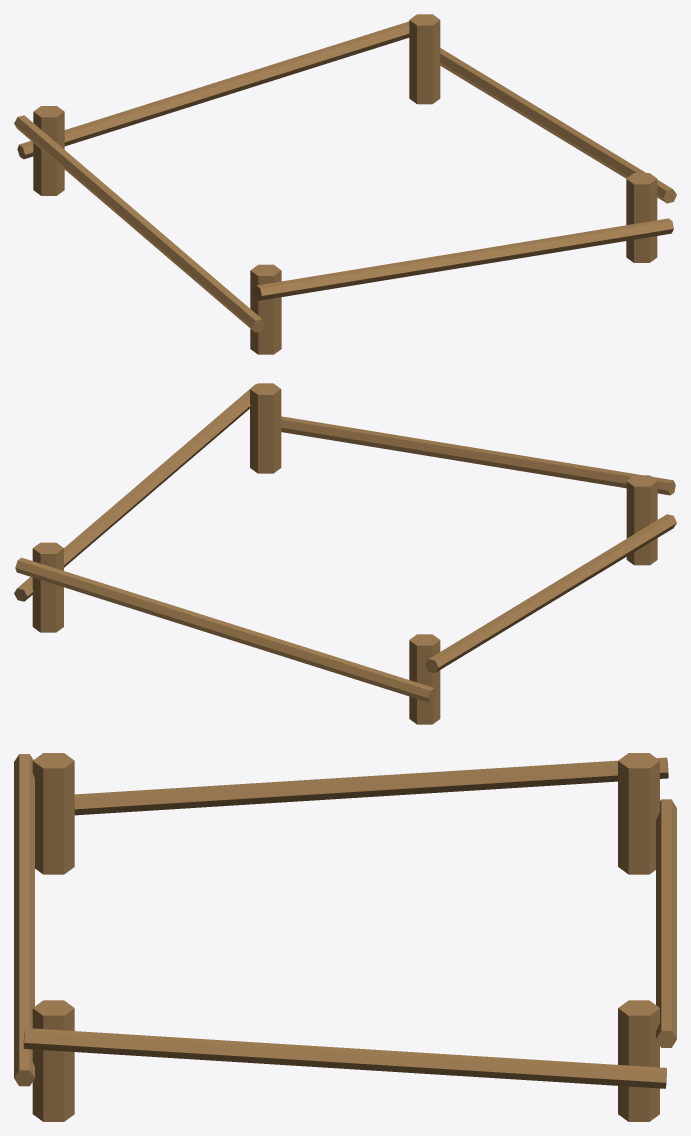
File: chickenPen.gltf
3 views of the same model, one above another, from view 1: azimuth 30°, elevation 25°; view 2: azimuth 150°, elevation 25°; view 3: azimuth 270°, elevation 25° (orthographic). The views are drawn at different scales.
Parts seen in each view (by area): view 1: Cylinder.004, Cylinder.006, Cylinder.007, Cylinder.005, Cylinder.003, Cylinder.002, Cylinder, Cylinder.001; view 2: Cylinder.006, Cylinder.004, Cylinder.007, Cylinder.005, Cylinder.002, Cylinder.003, Cylinder, Cylinder.001; view 3: Cylinder.005, Cylinder.007, Cylinder.004, Cylinder.006, Cylinder, Cylinder.001, Cylinder.002, Cylinder.003.
Part boxes in pixels (x1=…): Cylinder.004: x1=254, y1=218, x2=673, y2=300; Cylinder.006: x1=17, y1=21, x2=409, y2=159; Cylinder.007: x1=14, y1=115, x2=265, y2=332; Cylinder.005: x1=440, y1=48, x2=676, y2=203; Cylinder.003: x1=409, y1=14, x2=440, y2=104; Cylinder.002: x1=626, y1=173, x2=657, y2=262; Cylinder: x1=250, y1=264, x2=281, y2=354; Cylinder.001: x1=33, y1=106, x2=64, y2=195; Cylinder.006: x1=15, y1=557, x2=435, y2=702; Cylinder.004: x1=281, y1=416, x2=675, y2=495; Cylinder.007: x1=425, y1=514, x2=676, y2=673; Cylinder.005: x1=14, y1=384, x2=256, y2=601; Cylinder.002: x1=250, y1=383, x2=281, y2=473; Cylinder.003: x1=32, y1=542, x2=63, y2=632; Cylinder: x1=626, y1=475, x2=657, y2=565; Cylinder.001: x1=409, y1=634, x2=440, y2=724; Cylinder.005: x1=23, y1=1028, x2=666, y2=1088; Cylinder.007: x1=74, y1=757, x2=668, y2=815; Cylinder.004: x1=14, y1=754, x2=34, y2=1086; Cylinder.006: x1=656, y1=799, x2=676, y2=1047; Cylinder: x1=32, y1=753, x2=74, y2=874; Cylinder.001: x1=618, y1=753, x2=659, y2=874; Cylinder.002: x1=32, y1=1000, x2=74, y2=1121; Cylinder.003: x1=618, y1=1000, x2=659, y2=1121.
Size of the model in its own units: 5.65 by 1 by 5.66.
